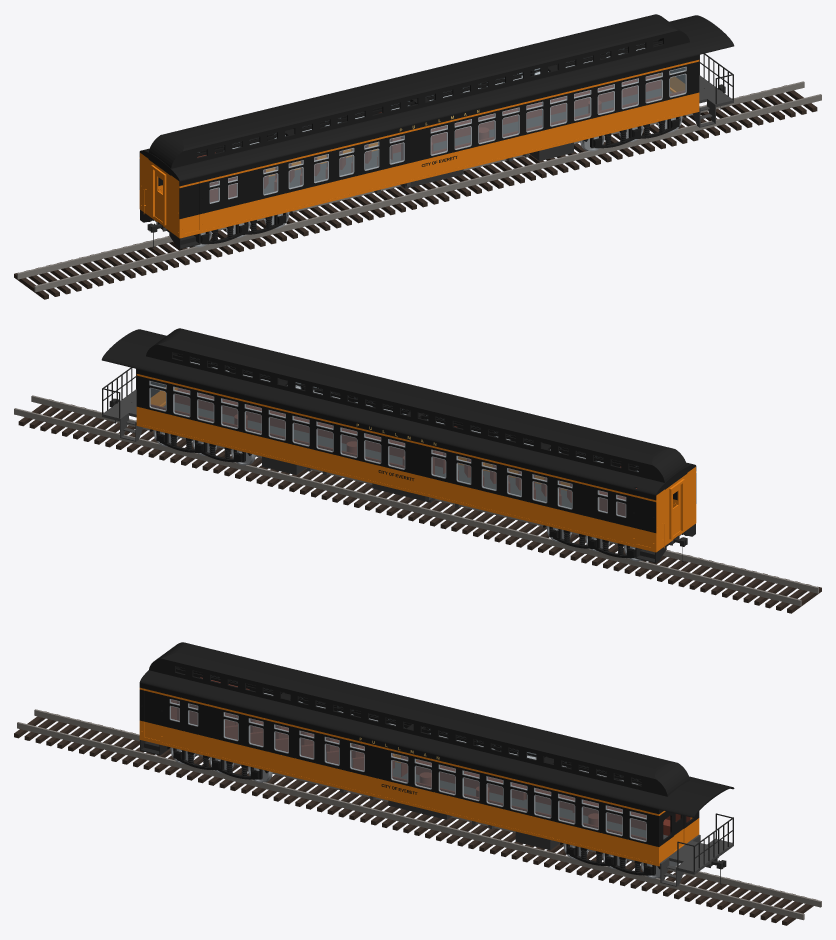
Rendered from MR1927_Observation.glb.
The picture shows the model from 3 angles, top to bottom: view 1: azimuth 30°, elevation 25°; view 2: azimuth 150°, elevation 25°; view 3: azimuth 330°, elevation 25°; orthographic projection.
Parts seen in each view (by area): view 1: roof, orange, maroon, ties, rails, glass, interior, rims, floor, trucks, equipment, wheels (+1 smaller); view 2: roof, orange, maroon, ties, rails, glass, interior, rims, floor, trucks, equipment, wheels (+1 smaller); view 3: roof, maroon, orange, ties, rails, glass, interior, rims, floor, trucks, equipment, wheels (+1 smaller).
Part boxes in pixels (box(x1,y1,x2,y2)): roof: box(139, 14, 734, 181); orange: box(139, 60, 699, 238); maroon: box(139, 38, 699, 218); ties: box(14, 85, 817, 299); rails: box(17, 81, 821, 292); glass: box(199, 48, 685, 202); interior: box(197, 74, 685, 202); rims: box(209, 53, 686, 203); floor: box(155, 75, 733, 231); trucks: box(200, 115, 685, 244); equipment: box(400, 142, 573, 188); wheels: box(193, 116, 682, 247); roof: box(101, 328, 695, 495); orange: box(136, 374, 696, 552); maroon: box(136, 352, 696, 532); ties: box(18, 399, 821, 613); rails: box(14, 395, 818, 606); glass: box(150, 362, 638, 516); interior: box(150, 388, 636, 516); rims: box(149, 367, 638, 517); floor: box(102, 389, 680, 545); trucks: box(150, 429, 635, 558); equipment: box(262, 456, 435, 502); wheels: box(153, 430, 642, 561); roof: box(139, 642, 734, 817); maroon: box(139, 666, 699, 846); orange: box(139, 687, 699, 866); ties: box(14, 711, 815, 925); rails: box(17, 709, 821, 920); glass: box(170, 682, 646, 840); interior: box(171, 677, 690, 840); rims: box(169, 699, 646, 841); floor: box(300, 746, 733, 886); trucks: box(167, 746, 660, 875); equipment: box(388, 800, 560, 850); wheels: box(170, 747, 679, 878).
Bounding box in the file's own units: 1.18 × 0.1609 × 0.1047.
